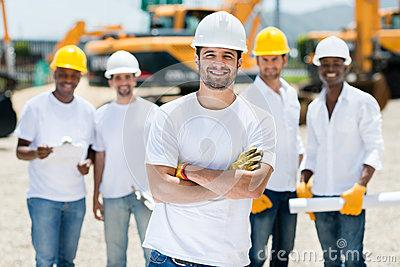helmet: (193, 12, 249, 55), (51, 45, 89, 77), (315, 37, 353, 68), (106, 50, 142, 79), (253, 28, 289, 57)
